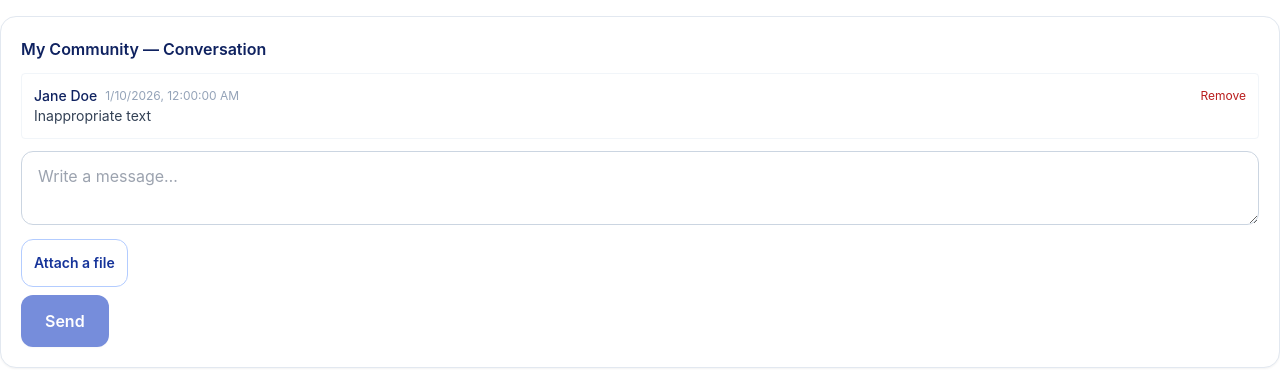
Test: CommunityConversation › an administrator can remove a message, which then renders the removed placeholder
This screenshot has width=1280, height=385.
Click the button "Remove".
click(1223, 96)  # box [1200,88,1246,104]
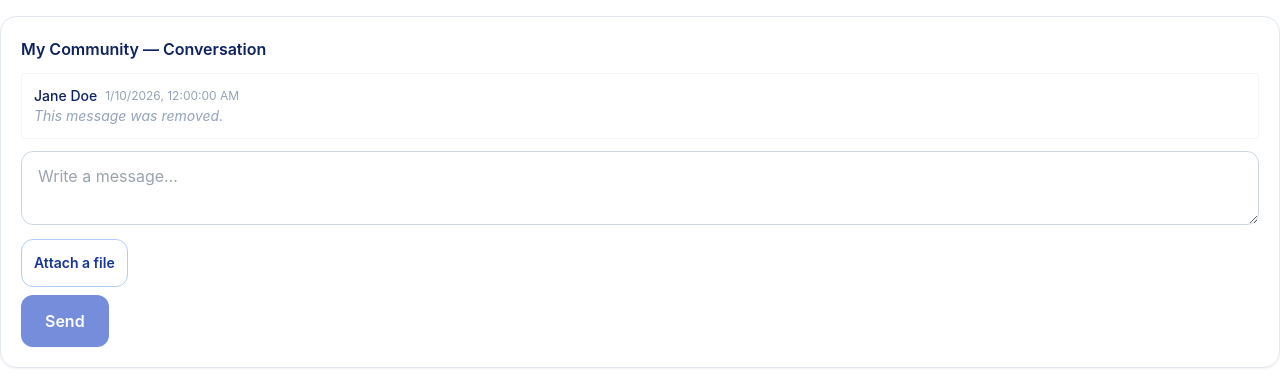
Expected: the text "This message was removed." is shown, [34,107,223,124]
Expected: the text "Inappropriate text" is gone
